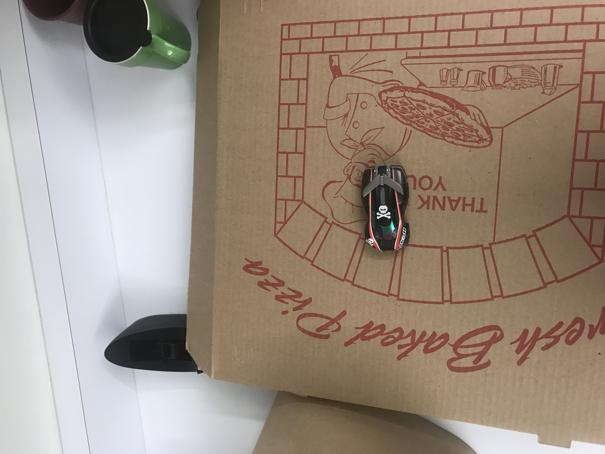Skull: (361, 164, 411, 253)
